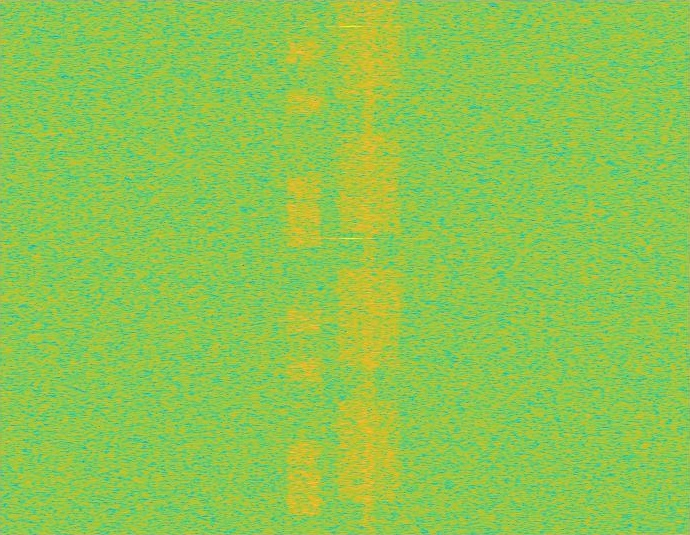5G: (334, 0, 403, 534)
DSSS: (361, 0, 377, 534)
LTE: (287, 0, 322, 534)
Radar: (344, 0, 358, 534)
